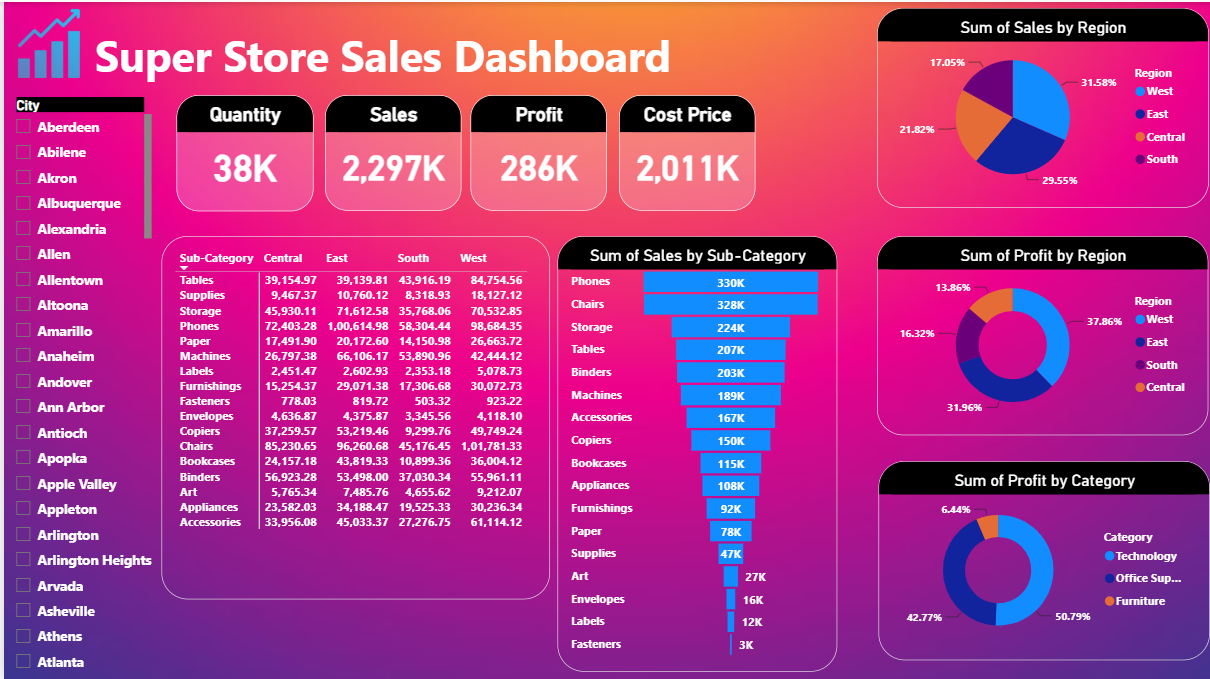

The page's visual inventory and layout, read from the dashboard file:
{"tool":"powerbi","page":{"name":"Page 1","canvas":[1280,720],"ordinal":0},"visuals":[{"type":"shape","box":[28.3,0,746.7,111.7],"z":0},{"type":"slicer","fields":{"Values":["Orders.City"]},"box":[0,95,161.7,625],"z":1000},{"type":"card","title":"Quantity","fields":{"Values":["Sum(Orders.Quantity)"]},"box":[183.3,98.3,145,123.3],"z":2000},{"type":"card","title":"Sales","fields":{"Values":["Sum(Orders.Sales)"]},"box":[340.4,98.6,144.7,122.5],"z":3000},{"type":"card","title":"Profit","fields":{"Values":["Sum(Orders.Profit)"]},"box":[494.7,98.6,144.7,122.5],"z":4000},{"type":"card","title":"Cost Price","fields":{"Values":["Orders.C.P"]},"box":[652.2,98.6,144.7,122.5],"z":5000},{"type":"pivotTable","fields":{"Columns":["Orders.Region"],"Rows":["Orders.Sub-Category"],"Values":["Sum(Orders.Sales)"]},"box":[166.7,248.3,411.7,385],"z":6000},{"type":"funnel","fields":{"Category":["Orders.Sub-Category"],"Y":["Sum(Orders.Sales)"]},"box":[586.7,248.3,296.7,461.7],"z":7000},{"type":"pieChart","fields":{"Category":["Orders.Region"],"Y":["Sum(Orders.Sales)"]},"box":[925,6.7,351.7,211.7],"z":8000},{"type":"donutChart","fields":{"Category":["Orders.Region"],"Y":["Sum(Orders.Profit)"]},"box":[925.7,248.1,351.5,211.6],"z":9000},{"type":"donutChart","fields":{"Category":["Orders.Category"],"Y":["Sum(Orders.Profit)"]},"box":[927.3,486.7,351.5,211.6],"z":10000},{"type":"image","box":[0,6.7,95,75],"z":11000}]}

Visuals, with their boxes in screenshot pixels (x1, y1, x2, y2), scaled from the page's 1280x720 canvas onto the 1210x679 screenshot:
shape: [27,0,733,105]
slicer - Orders.City: [0,90,153,678]
"Quantity" card: [173,93,310,209]
"Sales" card: [322,93,459,209]
"Profit" card: [468,93,604,209]
"Cost Price" card: [617,93,753,209]
pivotTable - Orders.Region x Orders.Sub-Category: [158,234,547,597]
funnel - Orders.Sub-Category x Sum(Orders.Sales): [555,234,835,670]
pieChart - Orders.Region x Sum(Orders.Sales): [874,6,1207,206]
donutChart - Orders.Region x Sum(Orders.Profit): [875,234,1207,434]
donutChart - Orders.Category x Sum(Orders.Profit): [877,459,1209,659]
image: [0,6,90,77]
